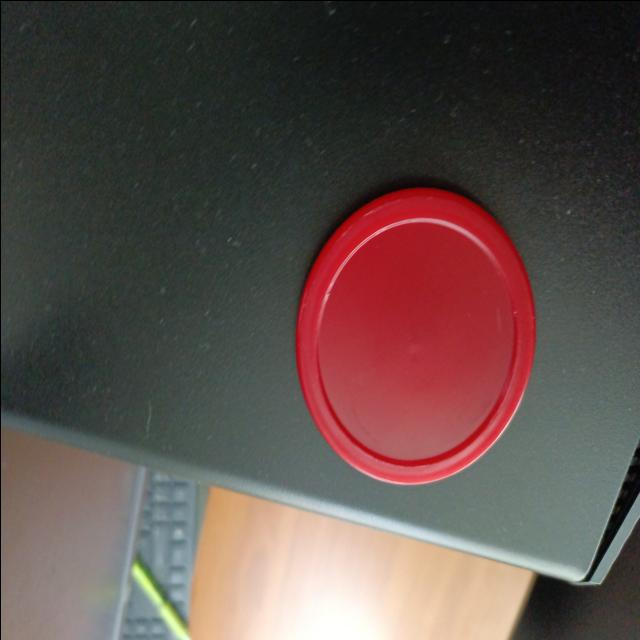chip: (296, 188, 538, 486)
